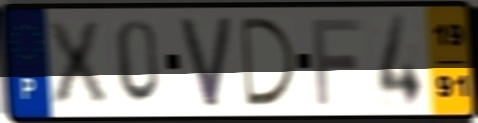0: (112, 18, 161, 108)
4: (375, 12, 426, 111)
D: (237, 15, 300, 109)
F: (308, 15, 365, 108)
V: (177, 13, 236, 110)
X: (42, 18, 112, 108)
